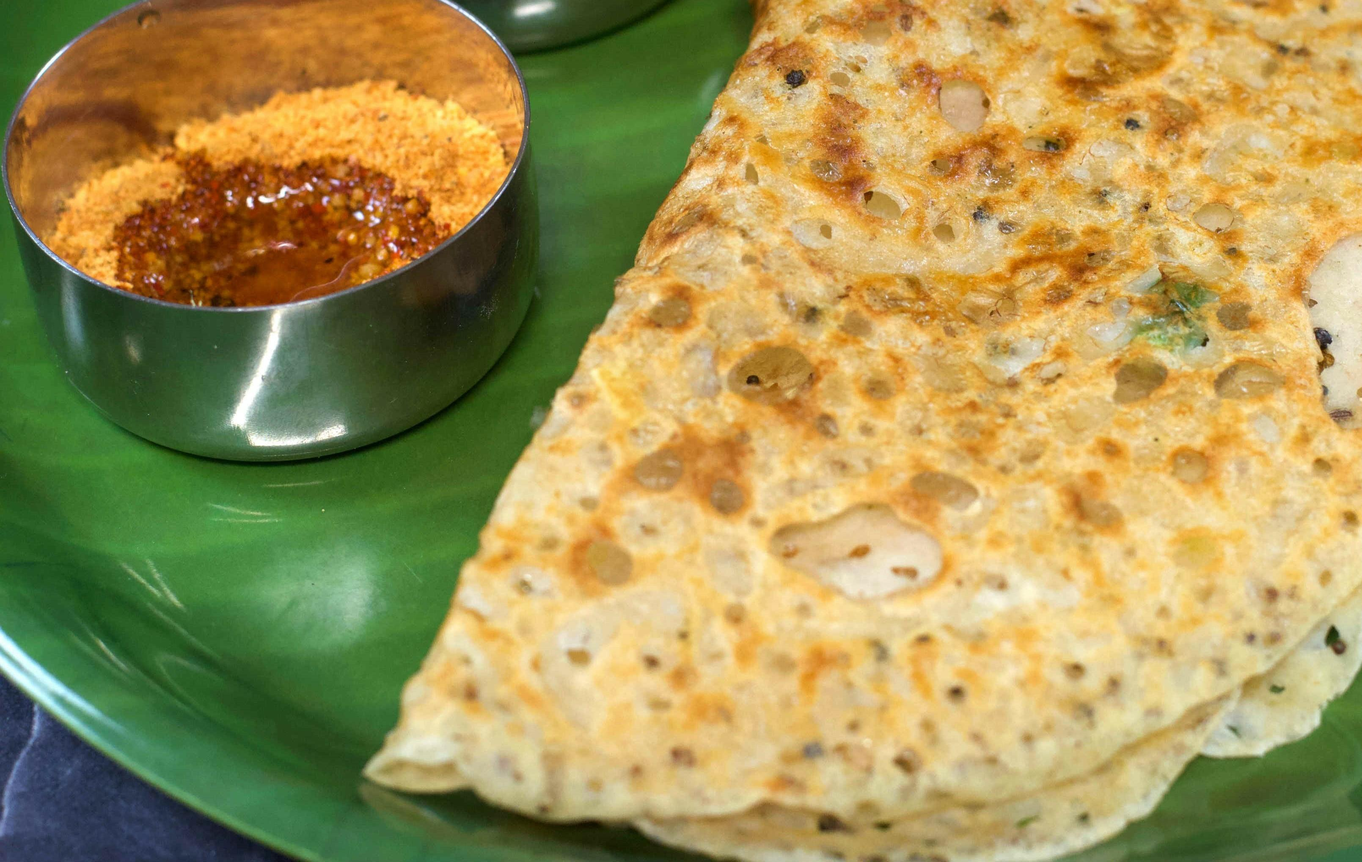Dosa: (364, 0, 1362, 862)
